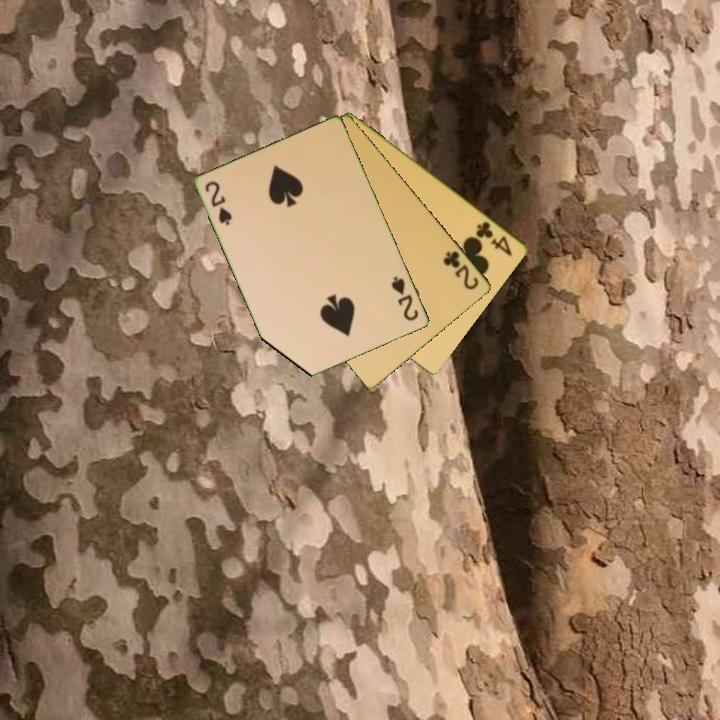2c: (440, 247, 482, 293)
2s: (388, 273, 422, 324), (202, 177, 235, 229)
4c: (472, 217, 516, 259)
